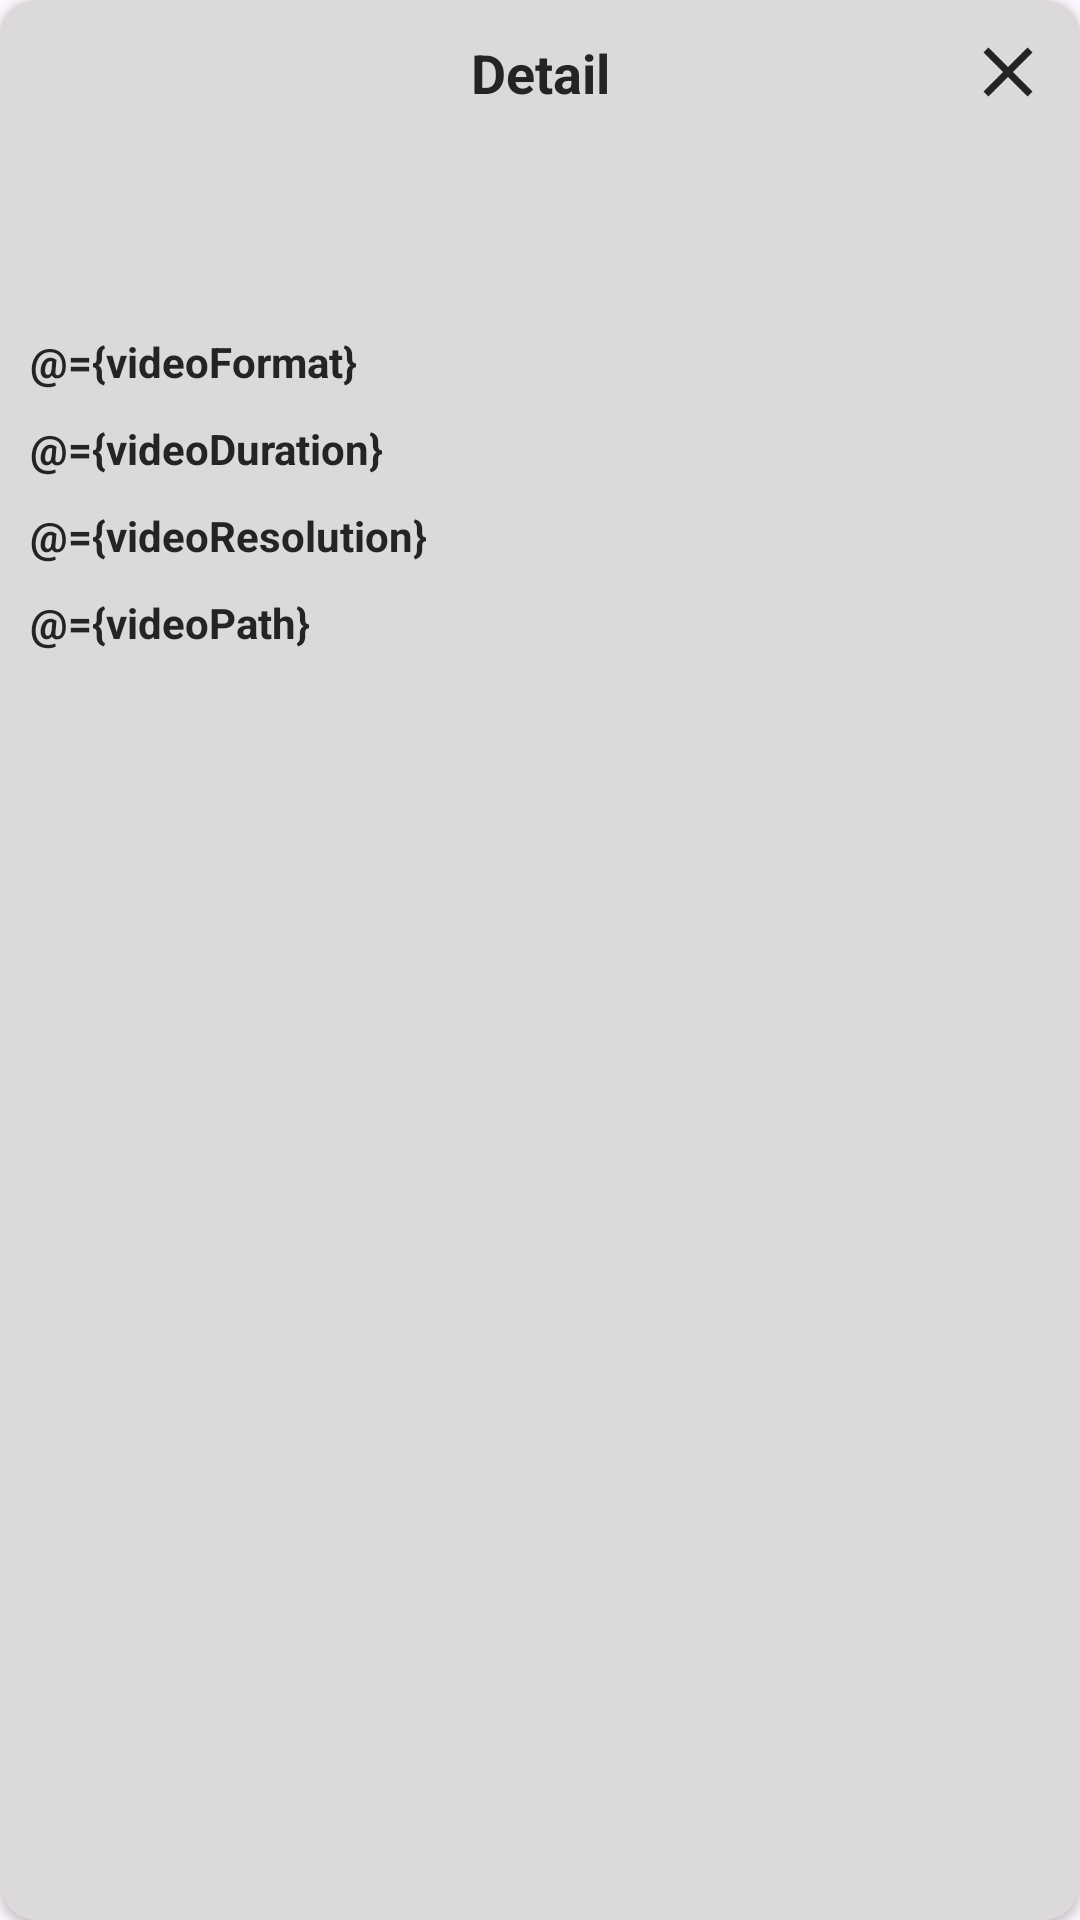

Named icons in this screenshot (1080x1920) and their centers, (x,y):
close: (1008,72)
